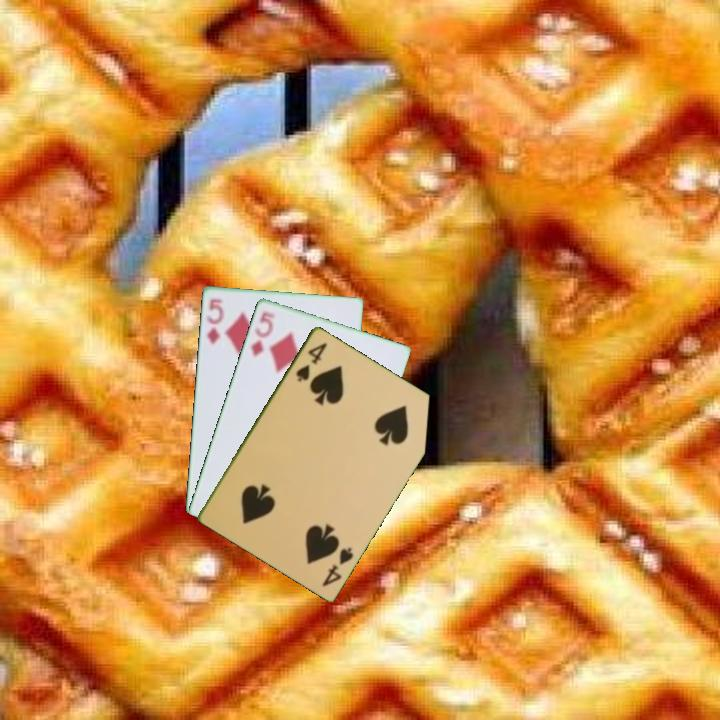4s: (318, 543, 356, 589), (292, 339, 330, 384)
5d: (247, 307, 277, 360), (203, 295, 227, 347)
